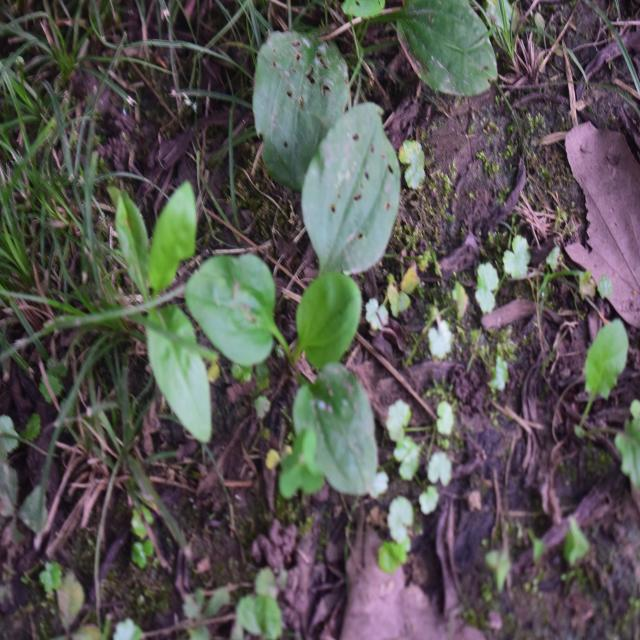plantain: (216, 117, 413, 502)
